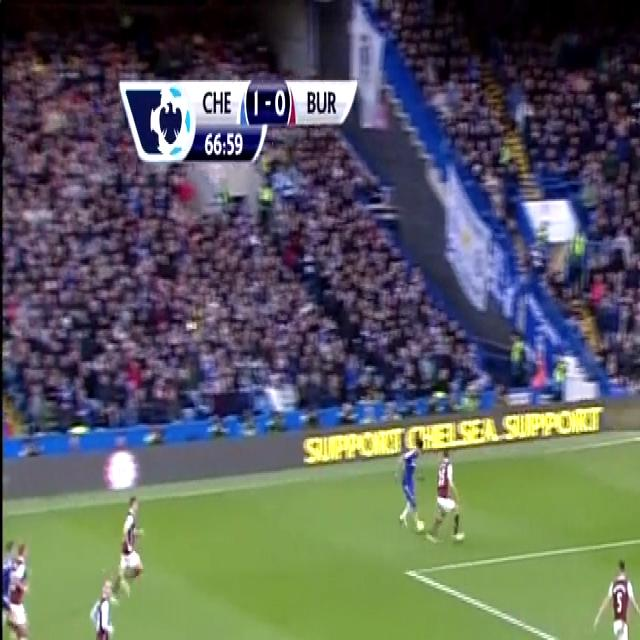ball: (416, 510, 432, 544)
soccer-player: (589, 542, 640, 640), (114, 482, 152, 604), (426, 442, 466, 557), (56, 576, 125, 640), (392, 419, 428, 538), (1, 526, 37, 640)
